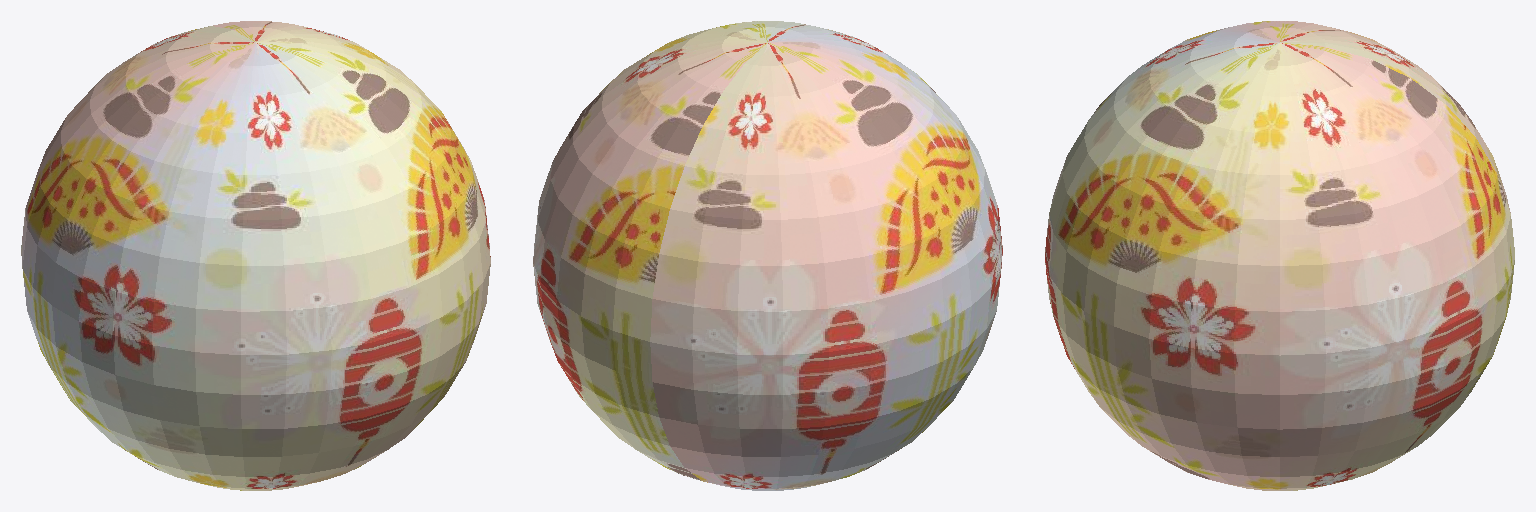
3 renders of one model, left to right at view 1: azimuth 30°, elevation 25°; view 2: azimuth 150°, elevation 25°; view 3: azimuth 270°, elevation 25°, orthographic.
Parts seen in each view (by area): view 1: Sphere001; view 2: Sphere001; view 3: Sphere001.
Part boxes in pixels (x1,y1,x2,y2): Sphere001: (21,21,490,490); Sphere001: (533,21,1002,490); Sphere001: (1045,21,1514,490).
Size of the model in its own units: 105 by 105 by 105.
Materials: 1 (1 with a texture image).